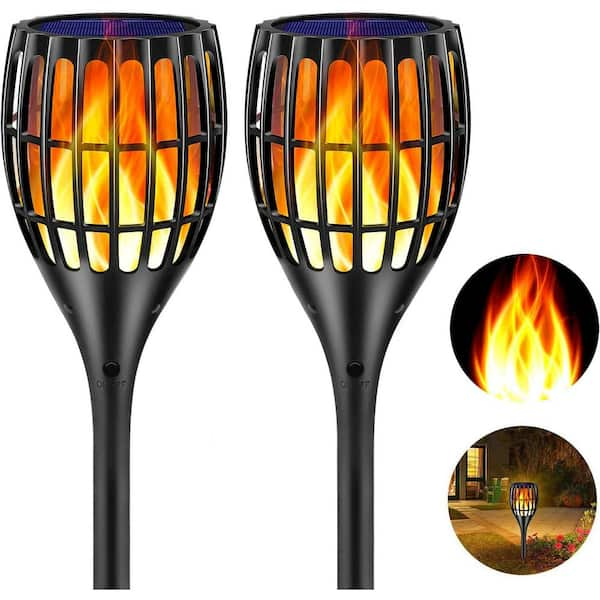Open-Flame-Hazard: (235, 8, 474, 593), (0, 17, 213, 597), (457, 239, 600, 406), (500, 460, 548, 553)
